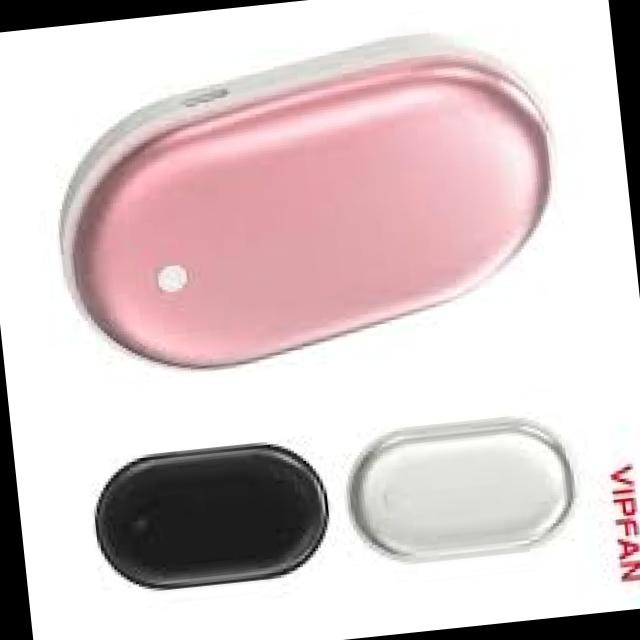portable-charger: (41, 8, 582, 397), (82, 432, 344, 604), (342, 404, 586, 571)
